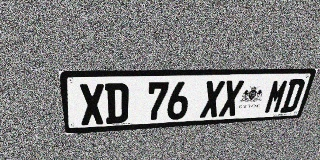6: (166, 81, 191, 120)
7: (145, 82, 169, 121)
D: (105, 83, 129, 124), (279, 79, 306, 113)
M: (263, 79, 290, 114)
X: (78, 83, 105, 125), (218, 80, 244, 117), (200, 81, 225, 118)
